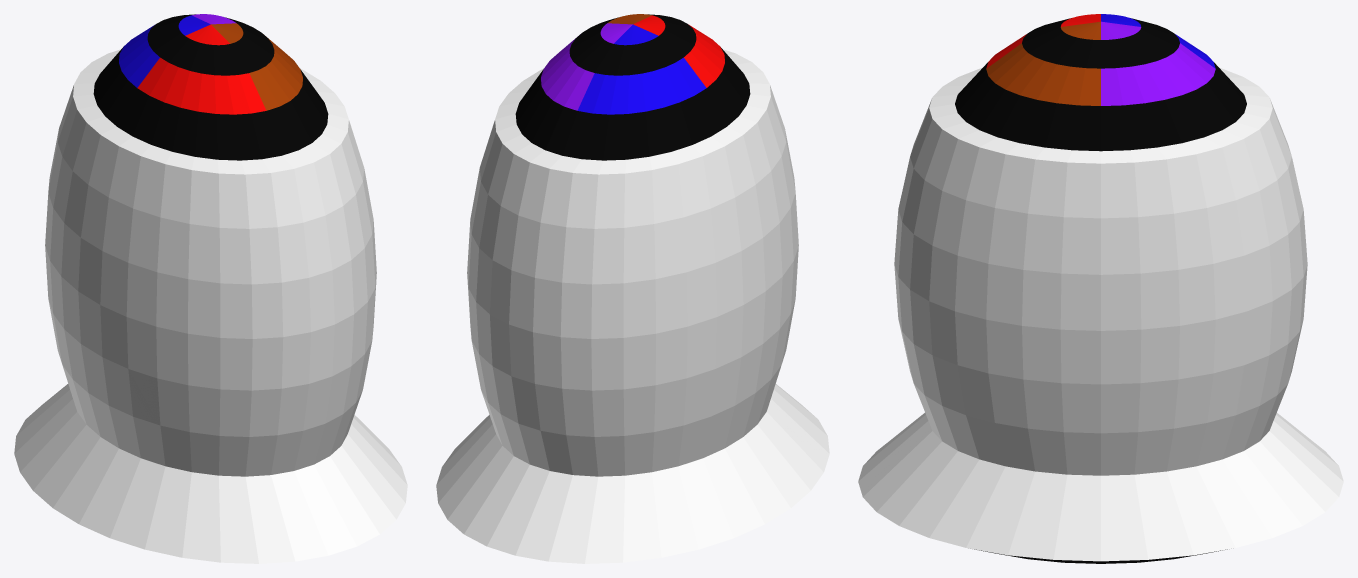
Rendered from Cluster_Missile_Capsule.fbx.
3 views of the same model, side by side, from view 1: azimuth 30°, elevation 25°; view 2: azimuth 150°, elevation 25°; view 3: azimuth 270°, elevation 25° (orthographic). The views are drawn at different scales.
Visible parts, largest first — view 1: Sphere; view 2: Sphere; view 3: Sphere.
Boxes of the visible parts, x1,y1,x2,y2 form: Sphere: [14, 14, 407, 563]; Sphere: [436, 14, 829, 563]; Sphere: [858, 14, 1343, 563].
Bounding box in the file's own units: 267 × 395 × 343.
